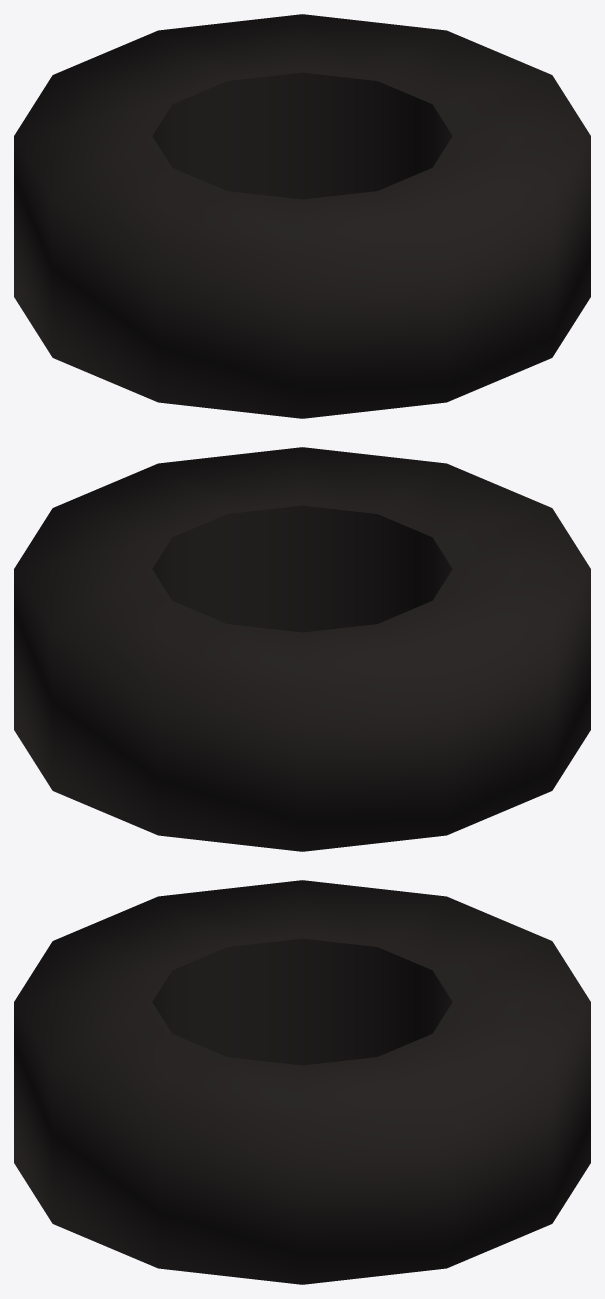
Rendered from tire1.fbx.
The picture shows the model from 3 angles, top to bottom: view 1: azimuth 30°, elevation 25°; view 2: azimuth 150°, elevation 25°; view 3: azimuth 270°, elevation 25°; orthographic projection.
Parts seen in each view (by area): view 1: tire1; view 2: tire1; view 3: tire1.
Part boxes in pixels (<box>): tire1: <box>14,14,590,418</box>; tire1: <box>14,447,590,851</box>; tire1: <box>14,880,590,1284</box>.
Size of the model in its own units: 147 by 45.2 by 147.
